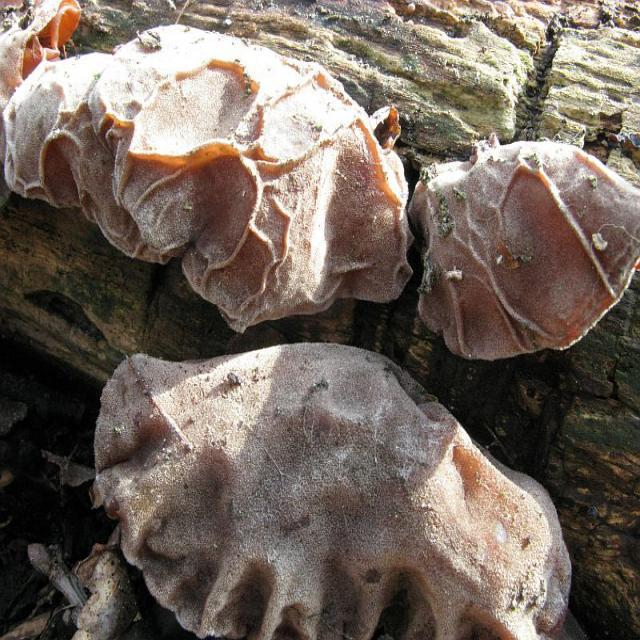Auricularia auricula: (94, 341, 573, 640), (3, 24, 409, 331), (407, 134, 640, 357)
